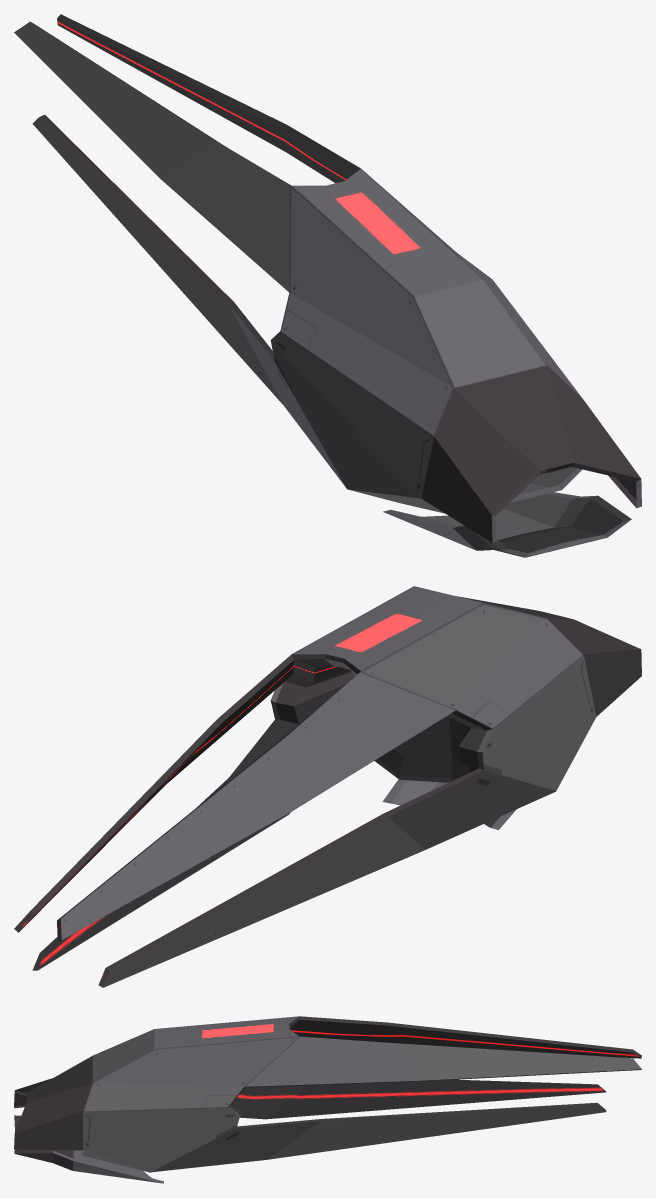
Rendered from Suit.Gun.fbx.
3 views of the same model, one above another, from view 1: azimuth 30°, elevation 25°; view 2: azimuth 150°, elevation 25°; view 3: azimuth 270°, elevation 25° (orthographic). The views are drawn at different scales.
Parts seen in each view (by area): view 1: Gun; view 2: Gun; view 3: Gun.
Part boxes in pixels (x1,y1,x2,y2): Gun: [14, 14, 641, 557]; Gun: [14, 586, 641, 987]; Gun: [14, 1016, 641, 1183].
Bounding box in the file's own units: 32.1 × 35.37 × 139.
1 material, 1 textured.
